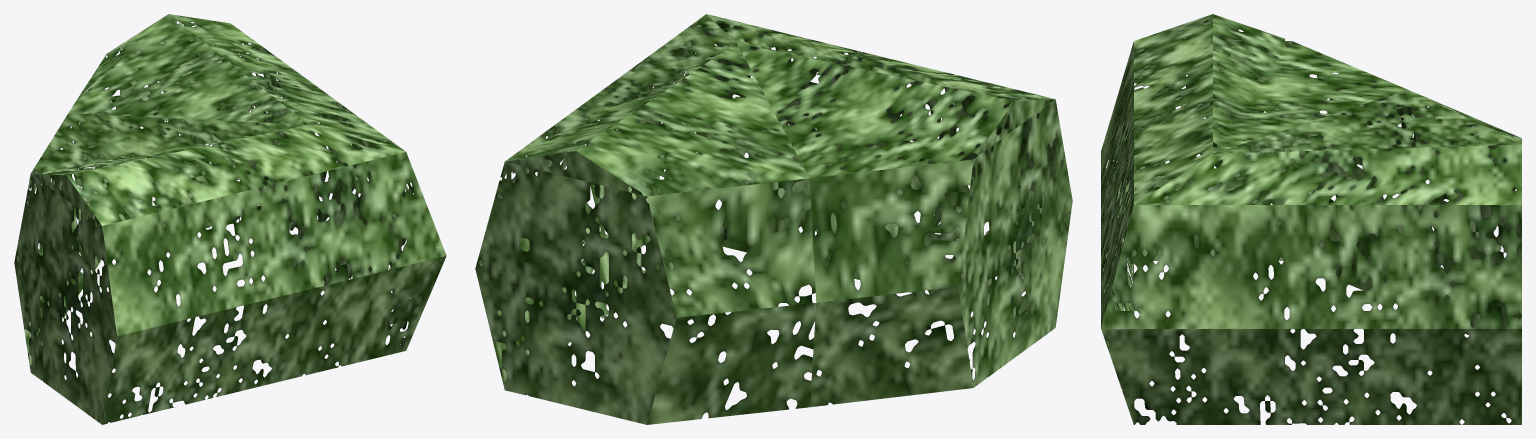
The model's file is bush_square_corner_filled_summer.fbx.
3 renders of one model, left to right at view 1: azimuth 30°, elevation 25°; view 2: azimuth 150°, elevation 25°; view 3: azimuth 270°, elevation 25°, orthographic. The views are drawn at different scales.
Parts seen in each view (by area): view 1: bush_square_corner_filled_summer; view 2: bush_square_corner_filled_summer; view 3: bush_square_corner_filled_summer.
Boxes of the visible parts, <box> form: bush_square_corner_filled_summer: <box>14,14,446,424</box>; bush_square_corner_filled_summer: <box>475,14,1072,424</box>; bush_square_corner_filled_summer: <box>1101,14,1521,424</box>.
Bounding box in the file's own units: 136 × 87.65 × 135.
Materials: 1 (1 with a texture image).
